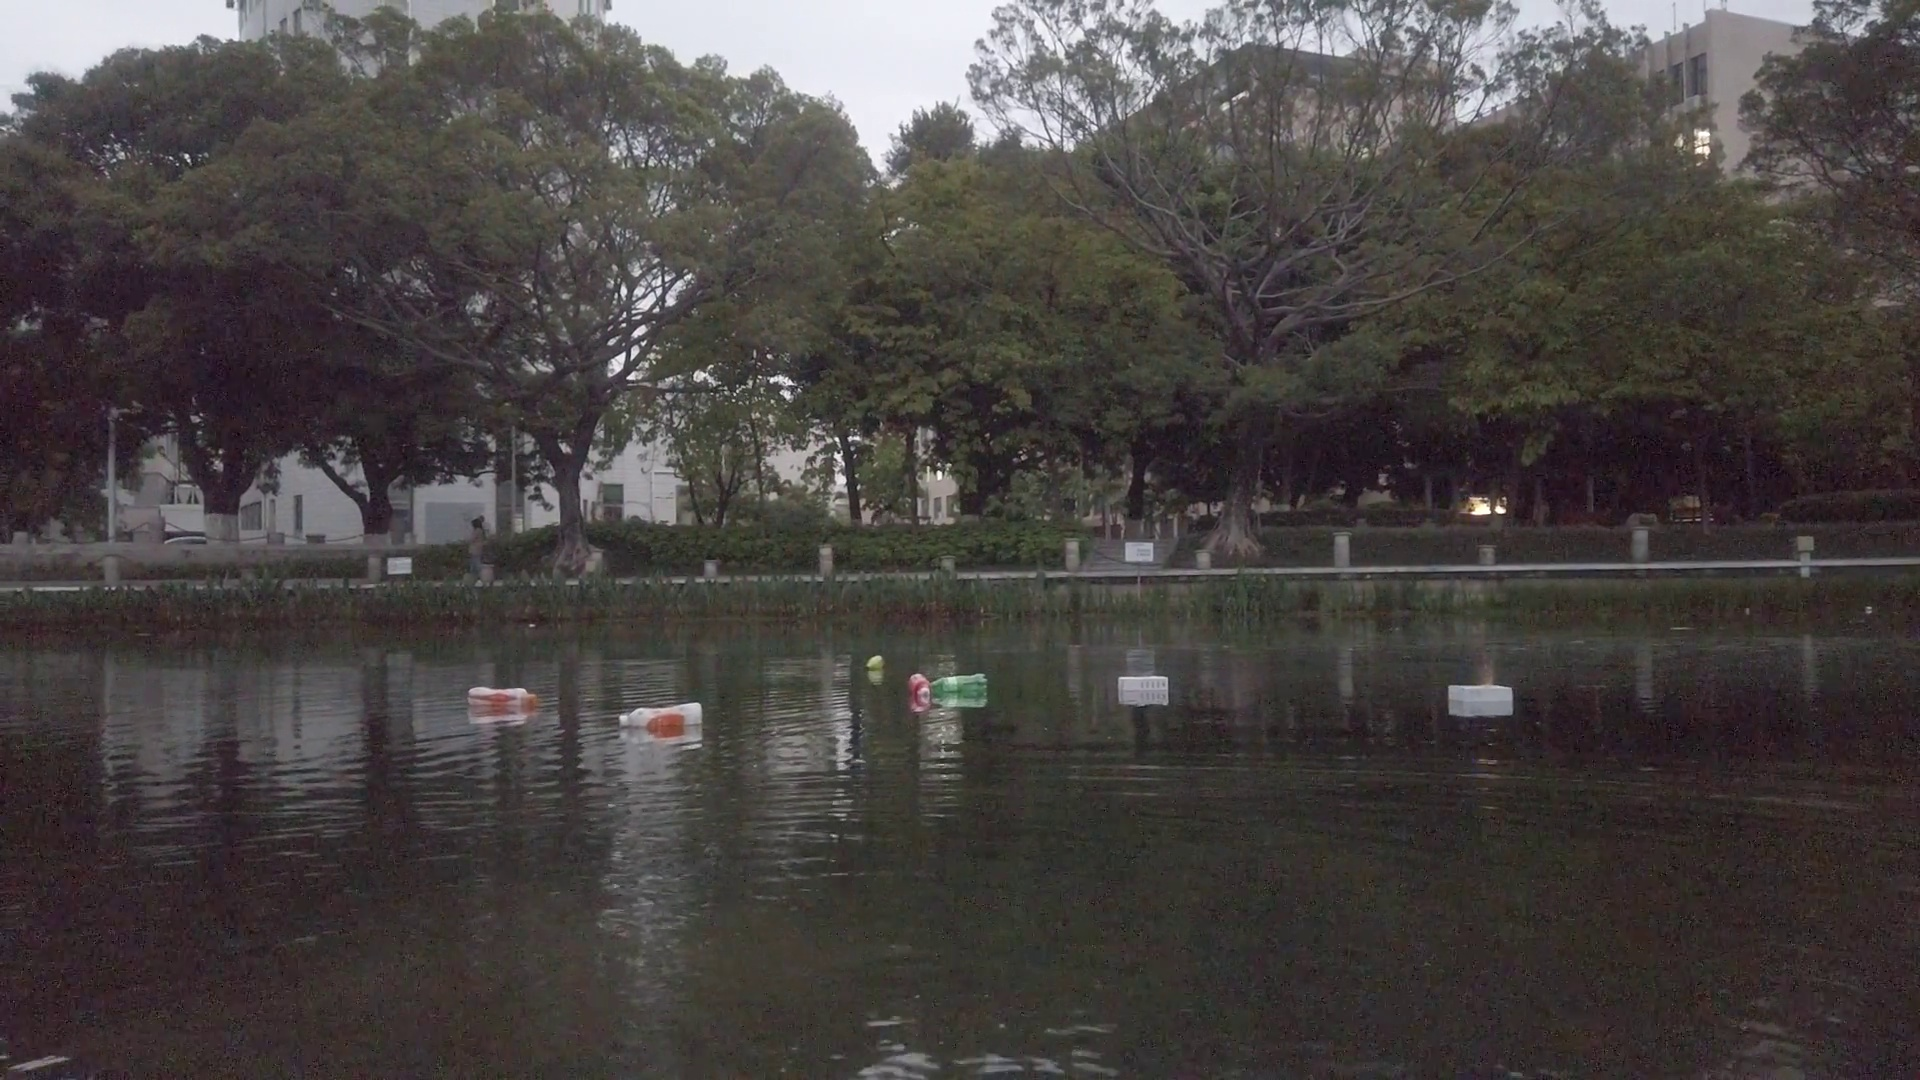bottle: (618, 702, 704, 729), (465, 684, 537, 709), (931, 673, 986, 698), (906, 671, 934, 707), (864, 651, 885, 673)
carton: (1447, 682, 1514, 705), (1118, 676, 1168, 694)
